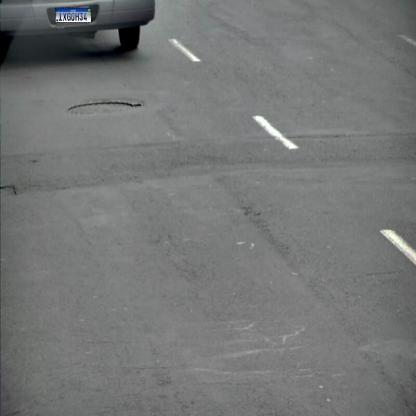PlacaM: (55, 8, 92, 23)
